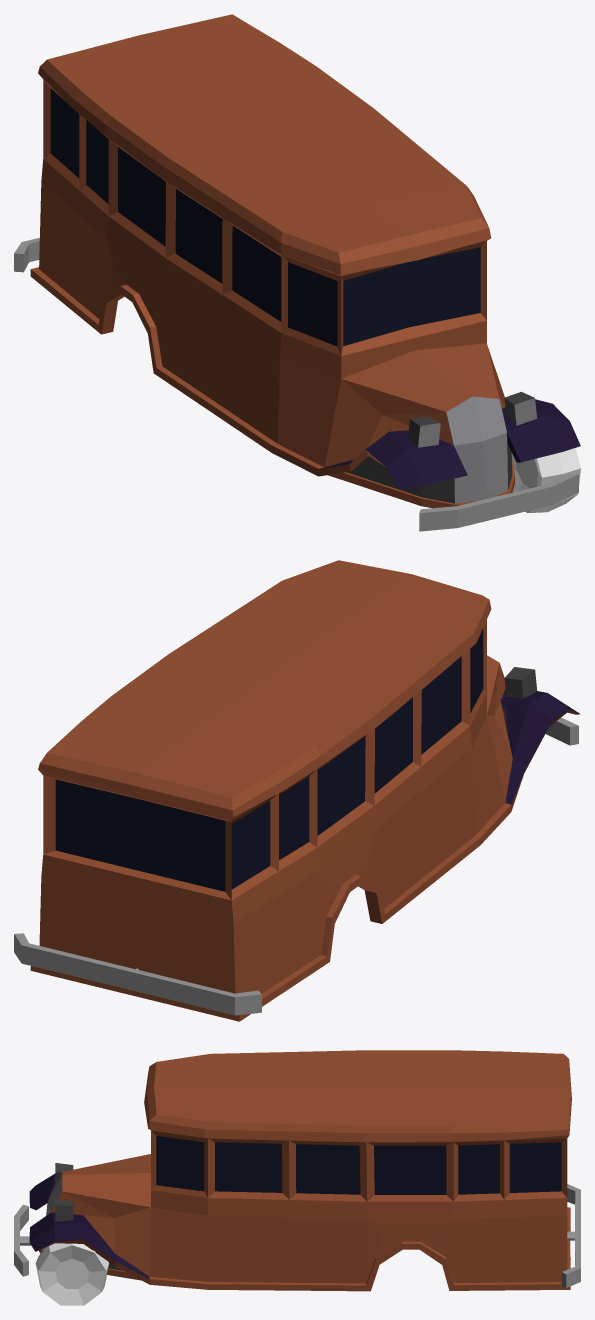
File: bus.fbx
The picture shows the model from 3 angles, top to bottom: view 1: azimuth 30°, elevation 25°; view 2: azimuth 150°, elevation 25°; view 3: azimuth 270°, elevation 25°; orthographic projection. The views are drawn at different scales.
Parts seen in each view (by area): view 1: Bus, Circle; view 2: Bus; view 3: Bus, Circle.
Boxes of the visible parts, bbox=[...] form: Bus: bbox=[14, 14, 580, 531]; Circle: bbox=[511, 448, 580, 512]; Bus: bbox=[14, 560, 580, 1021]; Bus: bbox=[14, 1050, 580, 1291]; Circle: bbox=[35, 1243, 108, 1305].
Size of the model in its own units: 273 by 262 by 718.
Materials: 1 (1 with a texture image).
